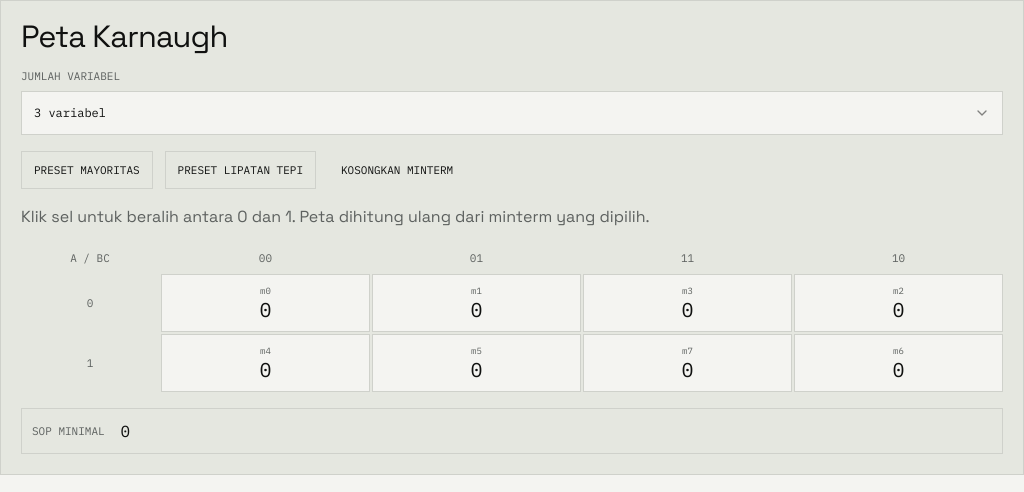
Test case: Lab, Percobaan, dan Inspektor M8.3 › mengirim minterm yang diklik dan menampilkan SOP dari backend
The width and height of the screenshot is (1024, 492).
Click the button named "Minterm 1" at (476, 303), box [372,274,581,332]
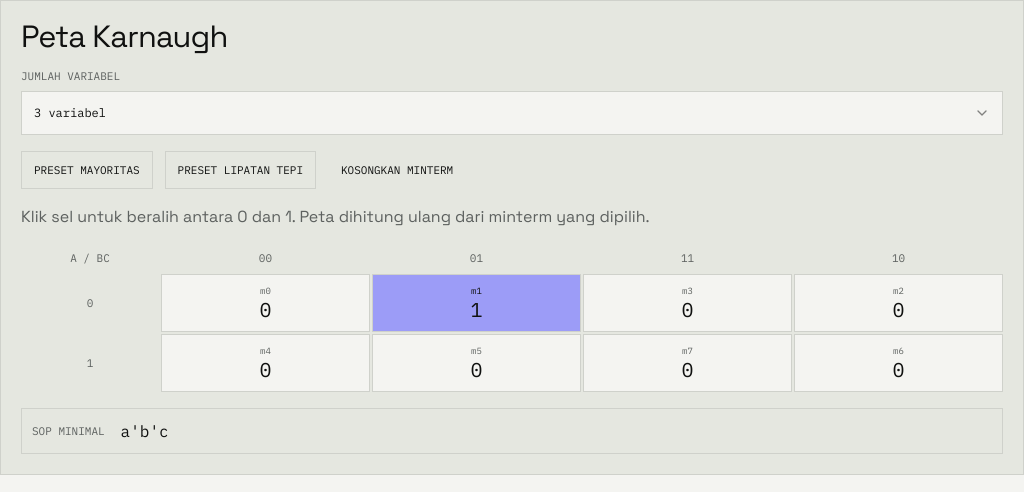
Expected: the text "a'b'c" is shown, [121,419,169,443]
